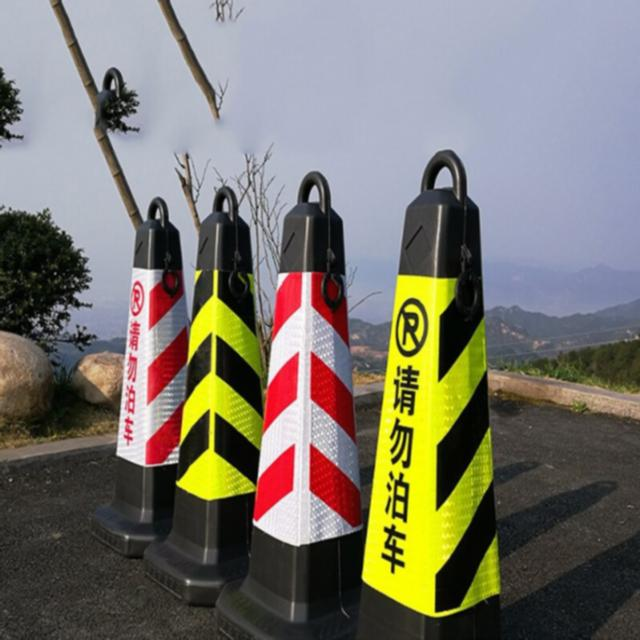reflective_cone: (356, 147, 504, 638), (220, 164, 362, 639), (146, 185, 266, 602), (87, 196, 187, 558)
